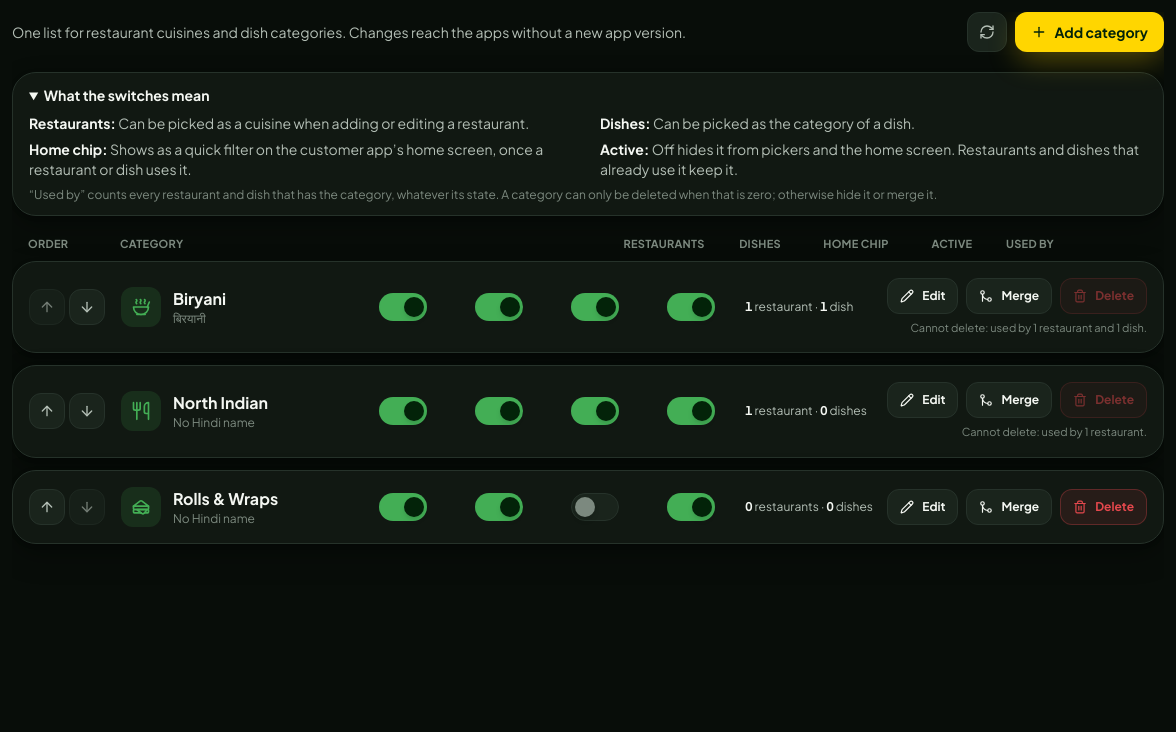
Test case: order › up / down buttons move a row, show an unsaved bar, and the first up / last down are disabled
The image size is (1176, 732).
Click the button named "Move North Indian up": (47, 411) [29, 393, 65, 429]
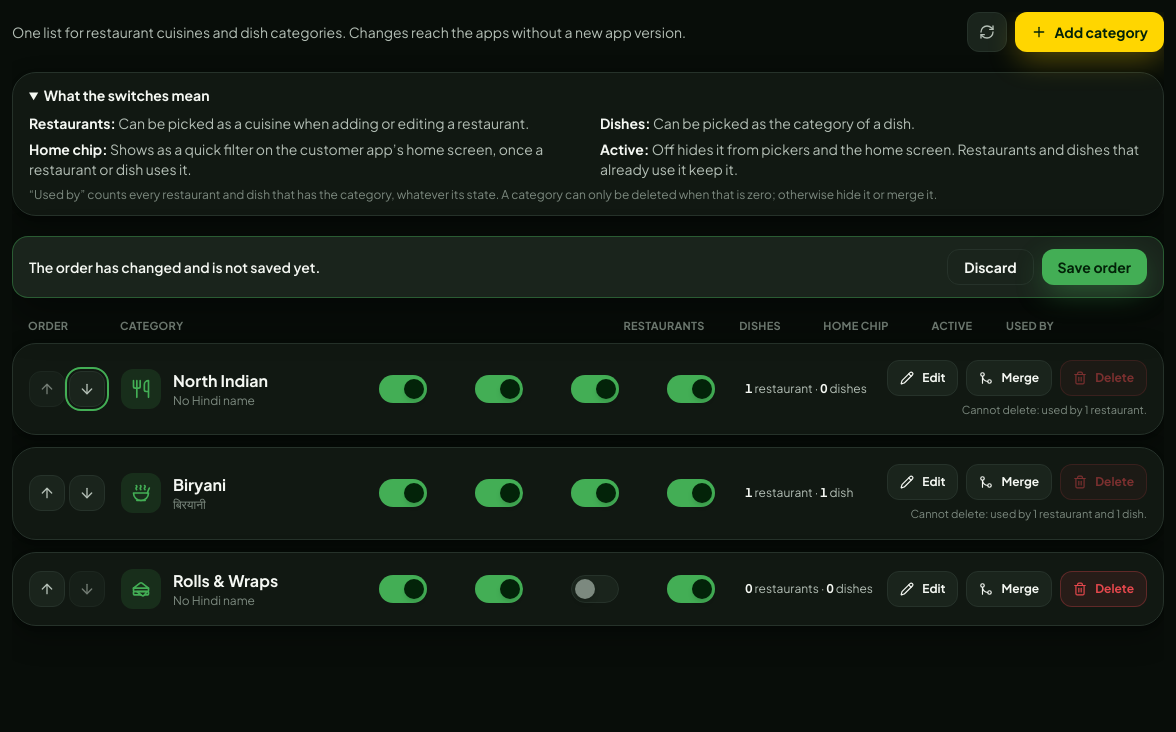
Expected: the text "The order has changed and is not saved yet." is shown, [29, 257, 320, 277]
